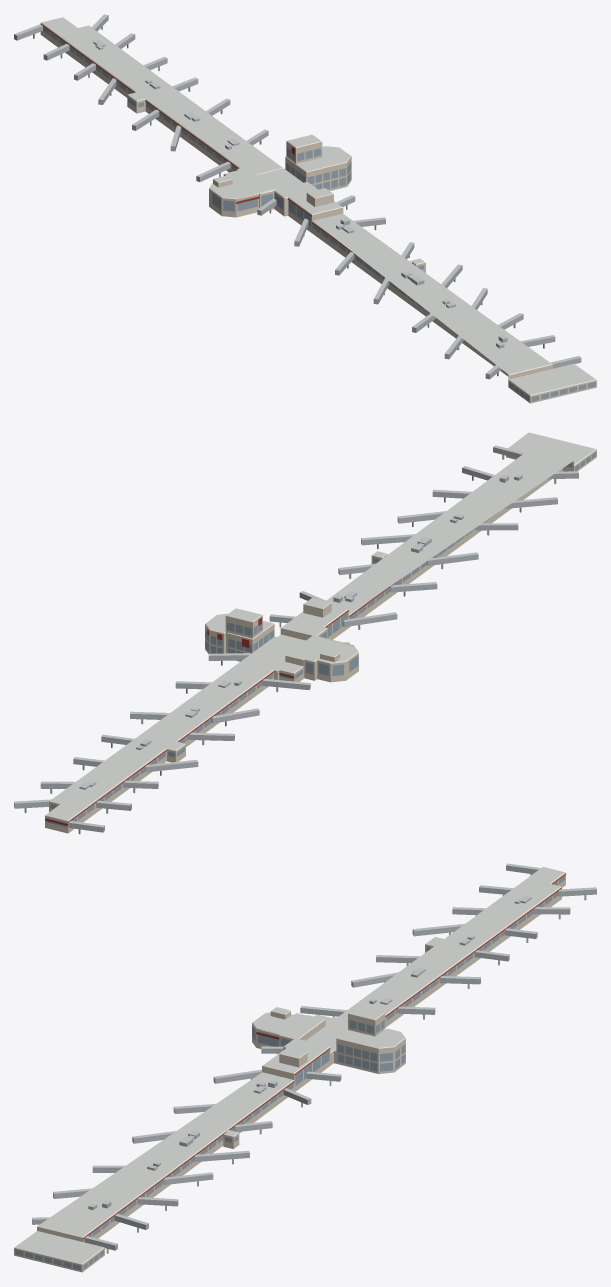
The model's file is atl-hartsfield-jackson-concourse-a.glb.
3 views of the same model, one above another, from view 1: azimuth 30°, elevation 25°; view 2: azimuth 150°, elevation 25°; view 3: azimuth 330°, elevation 25° (orthographic). The views are drawn at different scales.
Visible parts, largest first — view 1: Hartsfield-Jackson Concourse A; view 2: Hartsfield-Jackson Concourse A; view 3: Hartsfield-Jackson Concourse A.
Part boxes in pixels (left/top/right/bottom): Hartsfield-Jackson Concourse A: left=14, top=14, right=596, bottom=403; Hartsfield-Jackson Concourse A: left=14, top=432, right=596, bottom=834; Hartsfield-Jackson Concourse A: left=14, top=863, right=596, bottom=1272.
Bounding box in the file's own units: 112 × 33 × 728.
